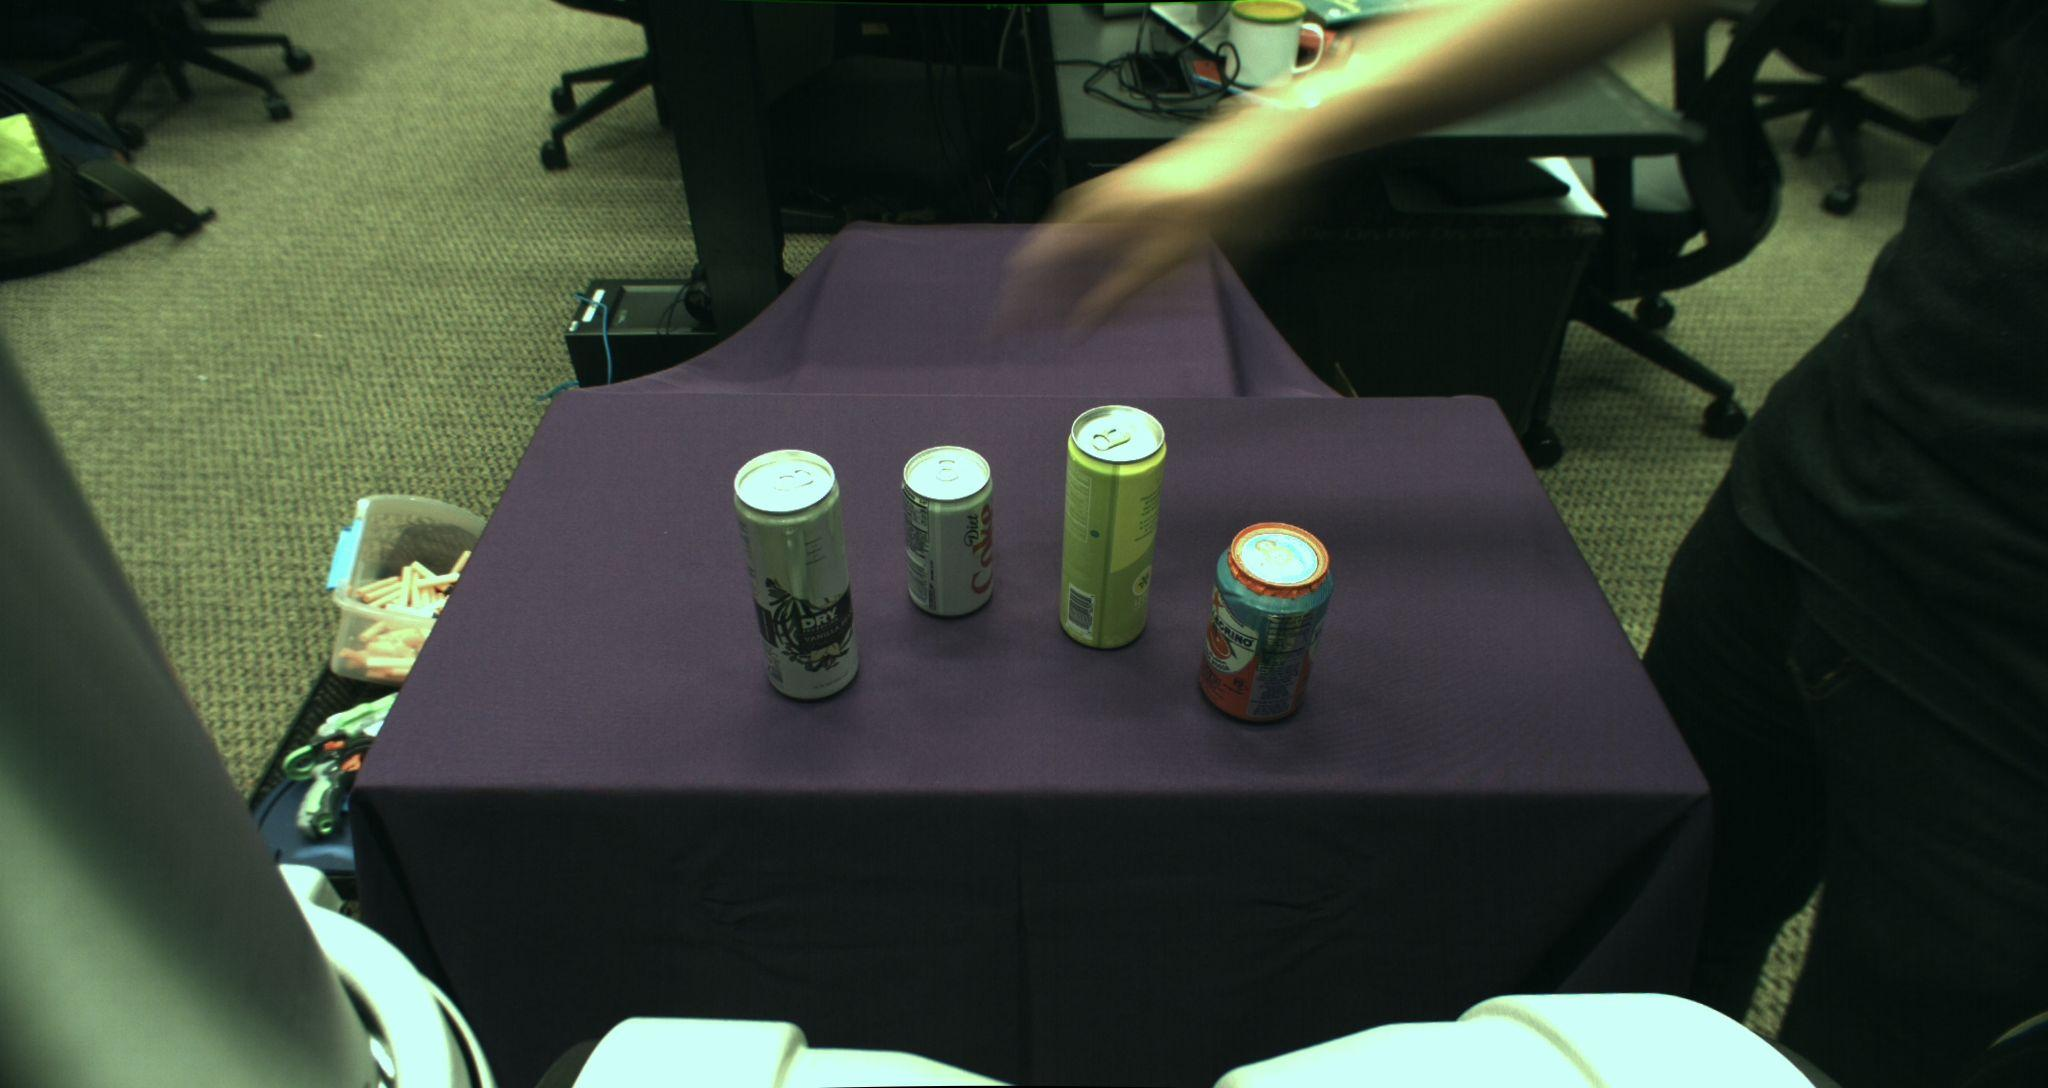can_diet_coke_small: (899, 444, 994, 618)
can_dry_sparkling_vanilla_bean: (731, 448, 860, 700)
can_izze_fusions_lemon_lime: (1058, 402, 1168, 649)
can_sanpellegrino_blood_orange: (1197, 522, 1334, 724)
